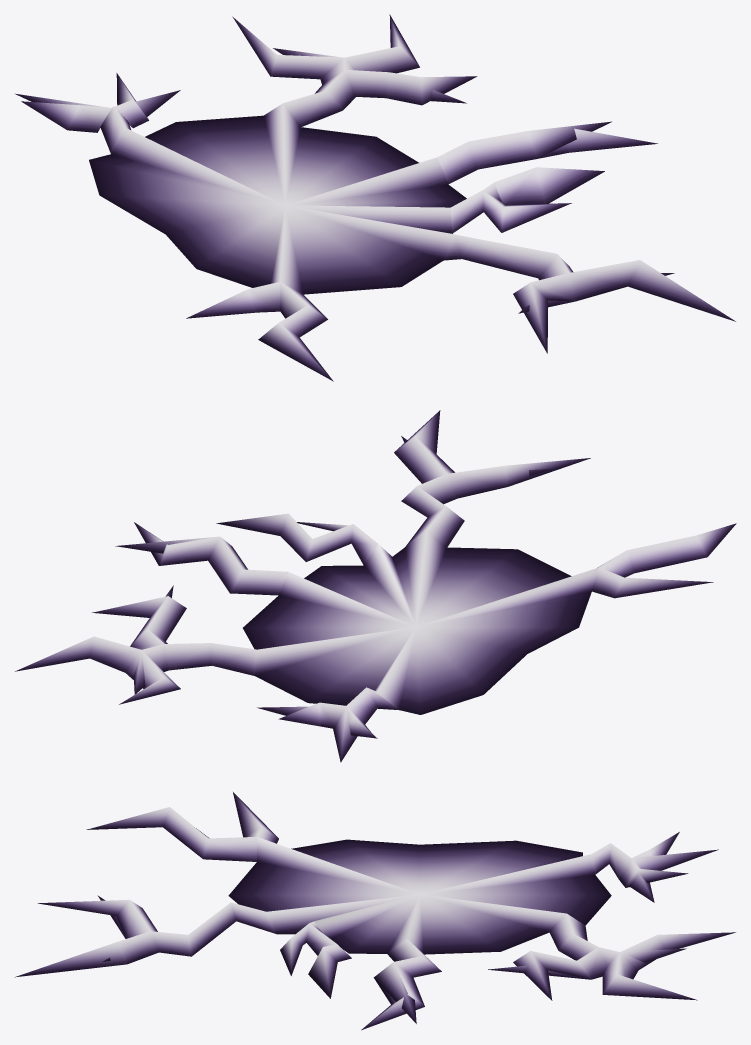
The model's file is copenhagen_lightning_menu.glb.
3 views of the same model, one above another, from view 1: azimuth 30°, elevation 25°; view 2: azimuth 150°, elevation 25°; view 3: azimuth 270°, elevation 25° (orthographic). The views are drawn at different scales.
Visible parts, largest first — view 1: Copenhagen_lightning_1_mesh, Copenhagen_lightning_3_mesh, Copenhagen_lightning_5_mesh, Copenhagen_lightning_2_mesh, Copenhagen_lightning_4_mesh; view 2: Copenhagen_lightning_1_mesh, Copenhagen_lightning_4_mesh, Copenhagen_lightning_5_mesh, Copenhagen_lightning_3_mesh, Copenhagen_lightning_2_mesh; view 3: Copenhagen_lightning_2_mesh, Copenhagen_lightning_1_mesh, Copenhagen_lightning_4_mesh, Copenhagen_lightning_5_mesh, Copenhagen_lightning_3_mesh.
Part boxes in pixels (box(x1,y1,x2,y2)): Copenhagen_lightning_1_mesh: box(89, 103, 466, 294); Copenhagen_lightning_3_mesh: box(111, 14, 604, 381); Copenhagen_lightning_5_mesh: box(21, 73, 735, 353); Copenhagen_lightning_2_mesh: box(93, 48, 502, 318); Copenhagen_lightning_4_mesh: box(15, 90, 674, 313); Copenhagen_lightning_1_mesh: box(243, 544, 598, 714); Copenhagen_lightning_4_mesh: box(115, 436, 588, 762); Copenhagen_lightning_5_mesh: box(134, 410, 590, 738); Copenhagen_lightning_3_mesh: box(15, 513, 736, 709); Copenhagen_lightning_2_mesh: box(130, 524, 633, 714); Copenhagen_lightning_2_mesh: box(203, 837, 686, 979); Copenhagen_lightning_1_mesh: box(228, 837, 611, 954); Copenhagen_lightning_4_mesh: box(97, 840, 718, 1023); Copenhagen_lightning_5_mesh: box(15, 832, 688, 1030); Copenhagen_lightning_3_mesh: box(86, 792, 735, 1000).
Bounding box in the file's own units: 12.02 × 0.7112 × 16.14.
1 material, 1 textured.
